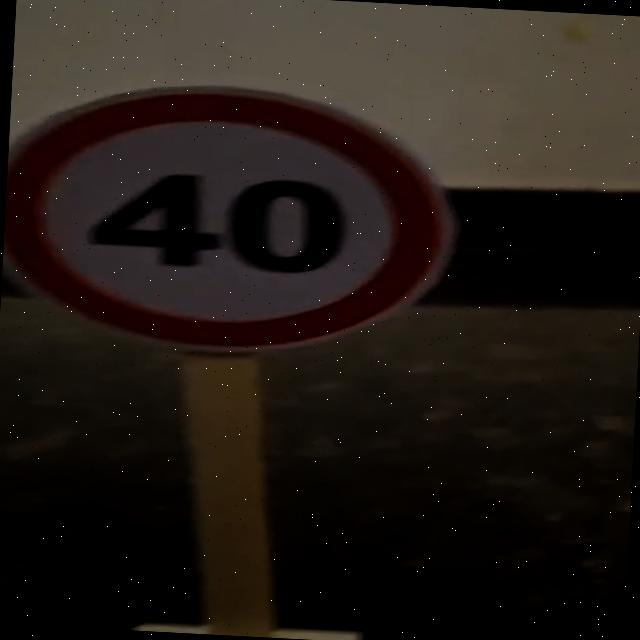Speed40: (0, 66, 478, 368)
